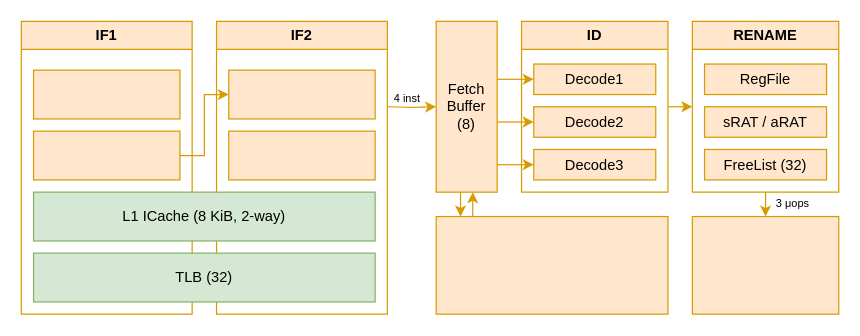
Image size: 860x336. Some labels were removed from this diagram. The centre of each missing label's shape, as x and y in pixels:
AI Predictor: (551,264)
BTB (1024): (106,155)
DISPATCH: (765,264)
PC: (106,94)
PHT (8192): (301,94)
RAS (8): (301,155)
